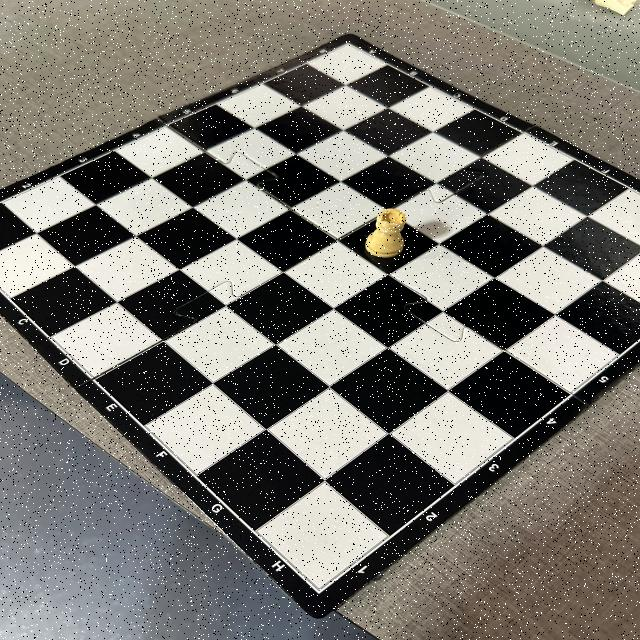White-Rook: (365, 208, 407, 259)
